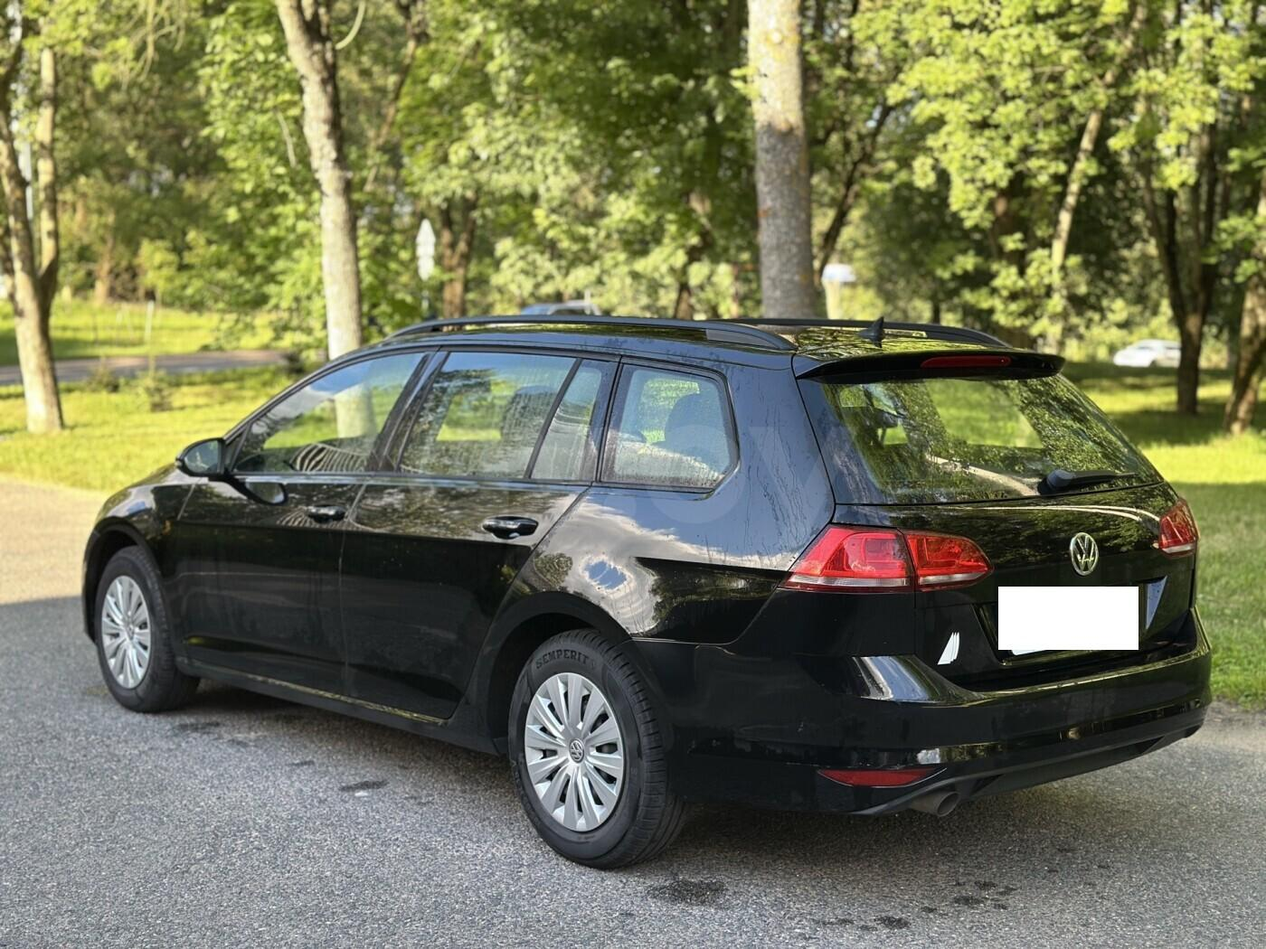Golf_2012-2017: (76, 308, 1220, 860)
